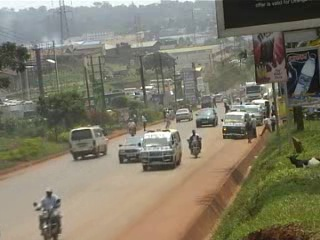Car: (116, 133, 147, 164), (194, 105, 222, 130), (172, 106, 192, 125)
Motorcycle: (30, 186, 67, 238), (184, 127, 204, 159), (124, 116, 138, 137)
